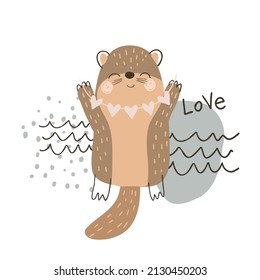animal: (76, 44, 170, 213)
